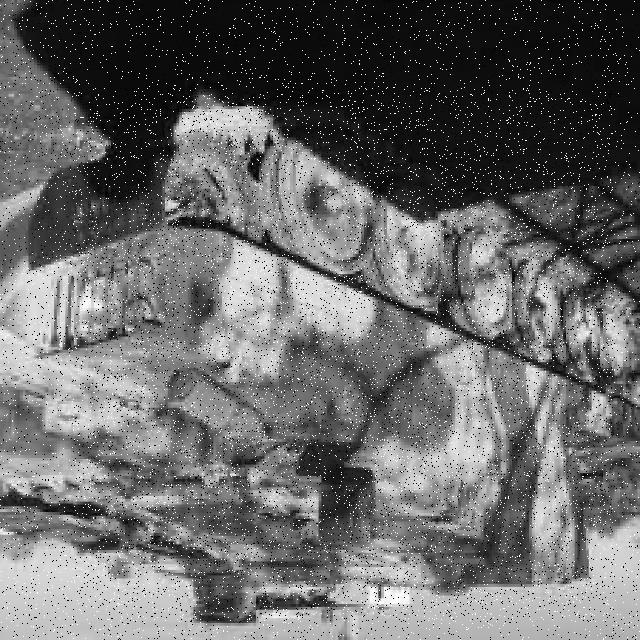MIL_MBT: (73, 88, 613, 621)
